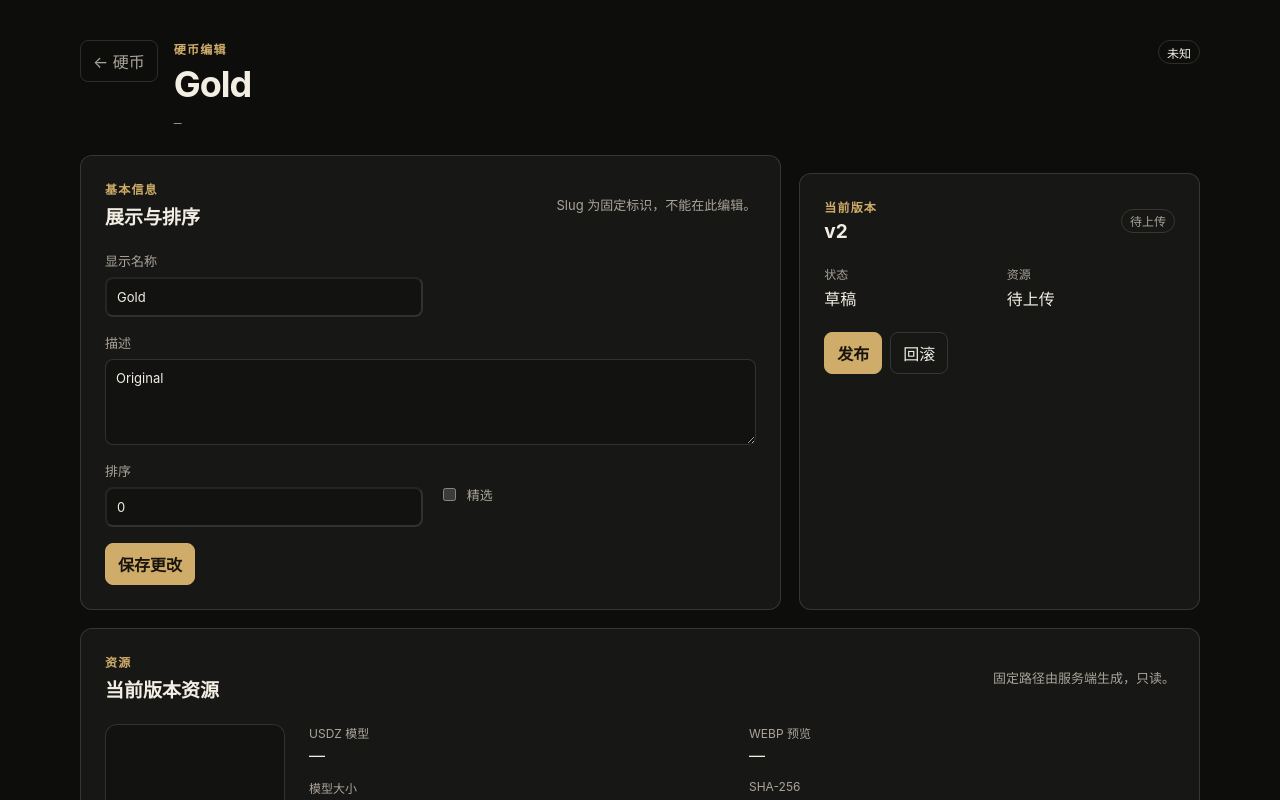
Scenario: CoinEditorView › keeps publication success and safe errors in accessible regions
Click the button with test id "publish".
click(853, 353)  # box [824, 332, 882, 374]
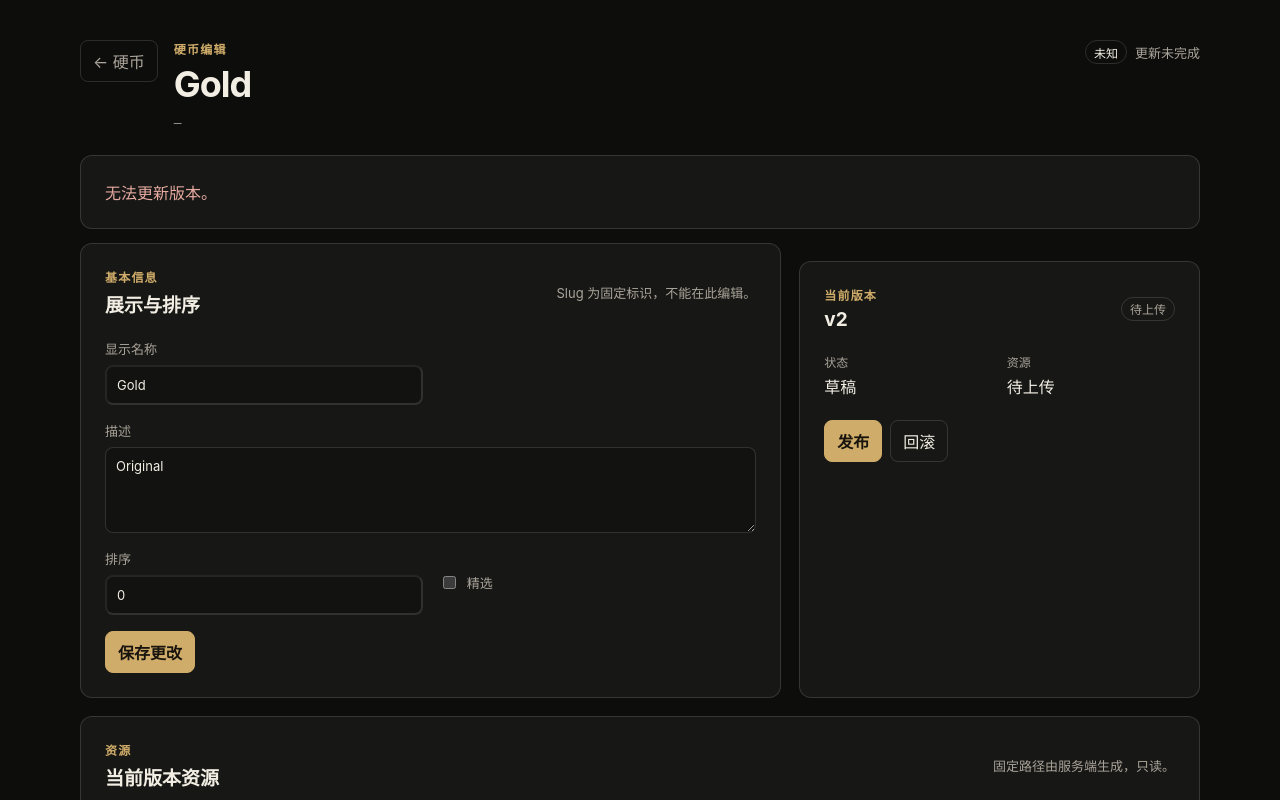
Check: the message "无法更新版本。" is shown, box [80, 155, 1200, 229]
